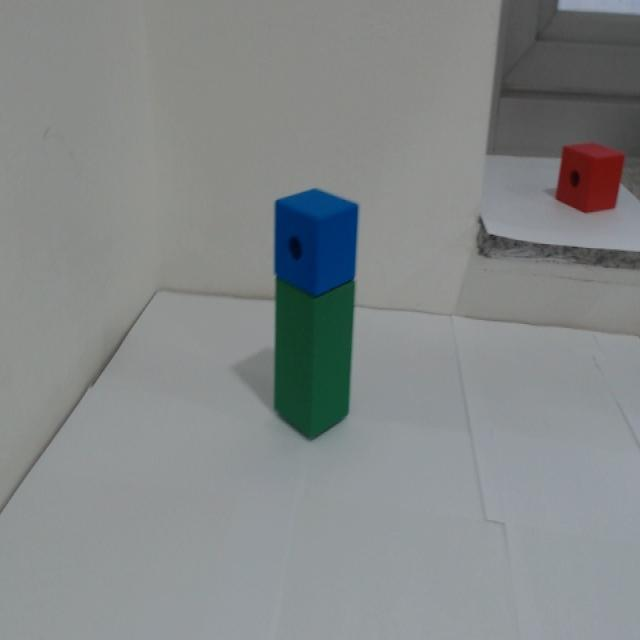cube: (259, 181, 373, 298)
